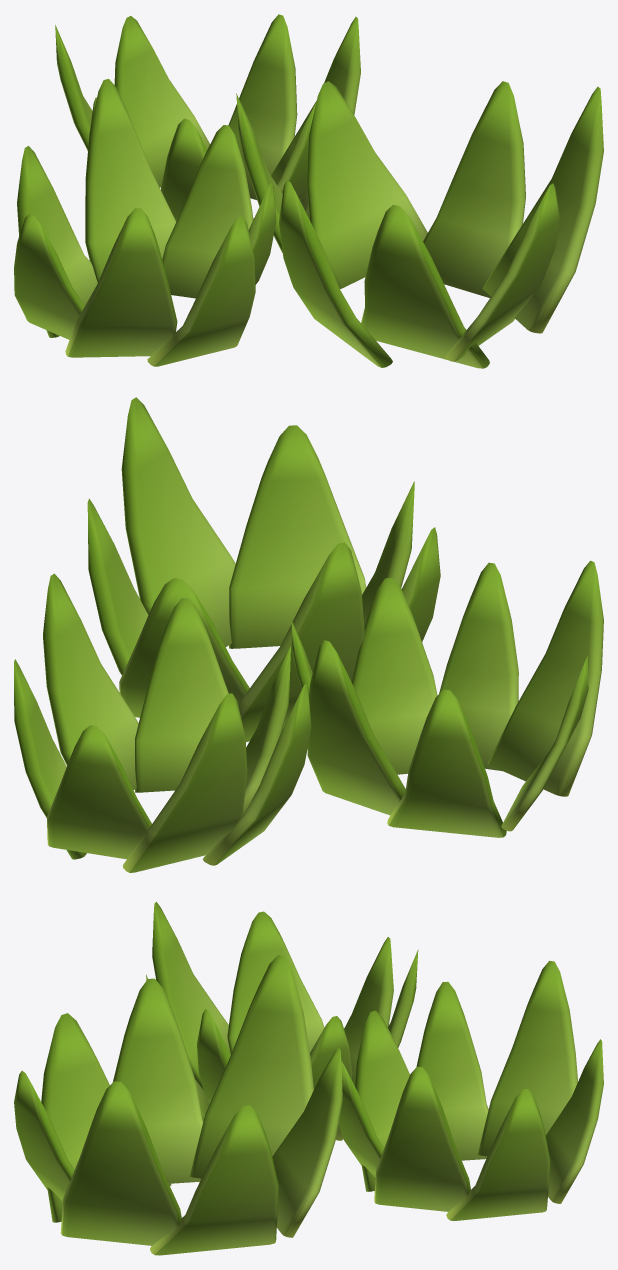
Rendered from Grass3.fbx.
3 views of the same model, one above another, from view 1: azimuth 30°, elevation 25°; view 2: azimuth 150°, elevation 25°; view 3: azimuth 270°, elevation 25° (orthographic). The views are drawn at different scales.
Visible parts, largest first — view 1: Cube.049, Cube.046, Cube.048, Cube.038, Cube.044, Cube.051, Cube.043, Cube.040, Cube.036, Cube.047, Cube.033, Cube.050 (+8 smaller); view 2: Cube.050, Cube.051, Cube.038, Cube.032, Cube.037, Cube.041, Cube.042, Cube.031, Cube.044, Cube.040, Cube.036, Cube.045 (+9 smaller); view 3: Cube.045, Cube.051, Cube.047, Cube.049, Cube.031, Cube.037, Cube.033, Cube.035, Cube.046, Cube.048, Cube.036, Cube.038 (+8 smaller).
Part boxes in pixels (box(x1,y1,x2,y2)): Cube.049: box(423, 81, 525, 297); Cube.046: box(306, 81, 427, 288); Cube.048: box(361, 204, 489, 368); Cube.038: box(65, 208, 177, 357); Cube.044: box(85, 79, 175, 282); Cube.051: box(482, 86, 603, 333); Cube.043: box(162, 125, 253, 298); Cube.040: box(147, 216, 255, 366); Cube.036: box(114, 16, 210, 187); Cube.047: box(279, 180, 392, 367); Cube.033: box(228, 14, 297, 199); Cube.050: box(445, 183, 559, 361); Cube.050: box(229, 425, 366, 648); Cube.051: box(121, 397, 235, 646); Cube.038: box(487, 560, 603, 796); Cube.032: box(135, 598, 228, 792); Cube.037: box(122, 693, 247, 872); Cube.041: box(351, 577, 437, 774); Cube.042: box(387, 689, 506, 837); Cube.031: box(43, 573, 138, 789); Cube.044: box(307, 640, 405, 815); Cube.040: box(439, 562, 518, 771); Cube.036: box(47, 725, 151, 859); Cube.045: box(238, 542, 364, 741); Cube.045: box(189, 955, 313, 1178); Cube.051: box(60, 1081, 181, 1245); Cube.047: box(112, 978, 203, 1183); Cube.049: box(150, 1105, 278, 1255); Cube.031: box(374, 1066, 470, 1211); Cube.037: box(477, 960, 577, 1156); Cube.033: box(446, 1089, 550, 1220); Cube.035: box(416, 981, 488, 1160); Cube.046: box(272, 1047, 342, 1237); Cube.048: box(41, 1013, 171, 1222); Cube.036: box(546, 1039, 603, 1203); Cube.038: box(152, 901, 230, 1089).
Bounding box in the file's own units: 82.75 × 35.06 × 89.45.
